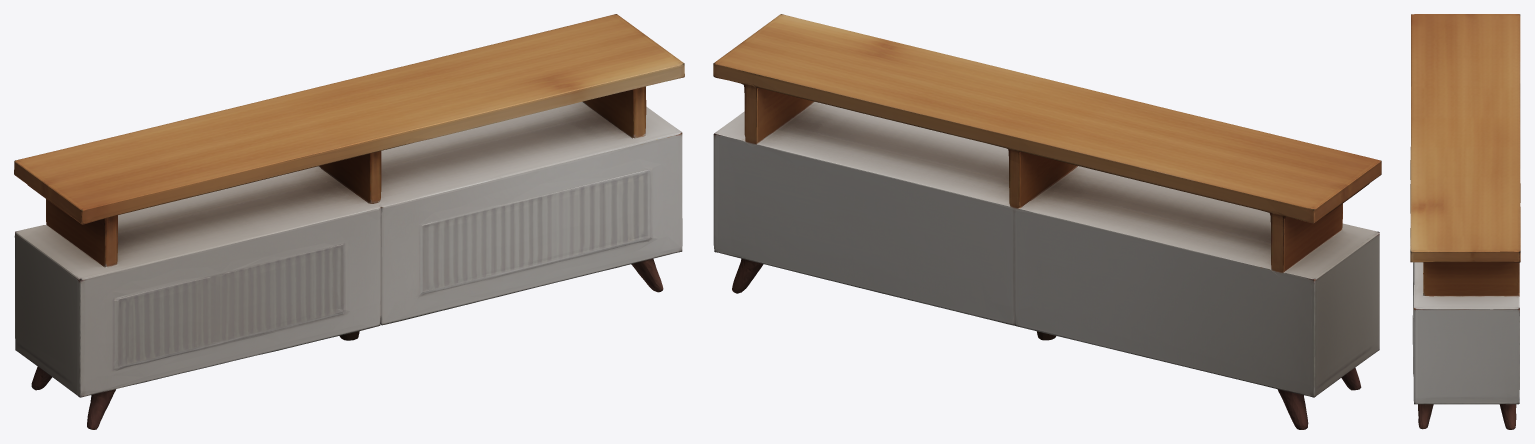
File: mwbr684_tv_stand_londres_off_white_mat.glb
3 renders of one model, left to right at view 1: azimuth 30°, elevation 25°; view 2: azimuth 150°, elevation 25°; view 3: azimuth 270°, elevation 25°, orthographic. The views are drawn at different scales.
Visible parts, largest first — view 1: world; view 2: world; view 3: world.
Boxes of the visible parts, x1,y1,x2,y2 form: world: [14, 14, 684, 429]; world: [713, 14, 1381, 429]; world: [1410, 14, 1520, 429].
Size of the model in its own units: 1 by 0.3646 by 0.1967.
1 material, 1 textured.
